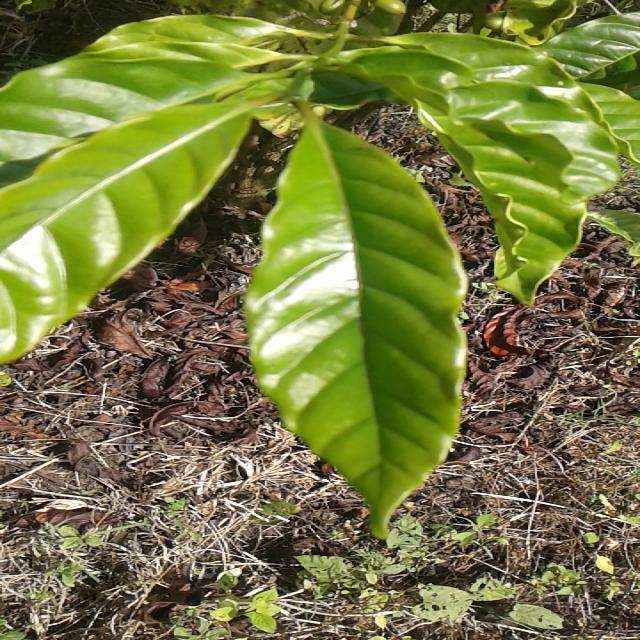Sanas: (243, 102, 468, 544)
